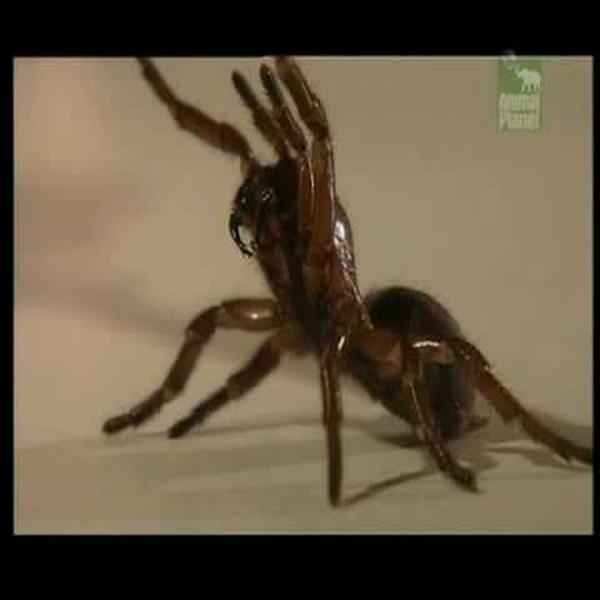Funnel Web Spider: (111, 60, 572, 491)
